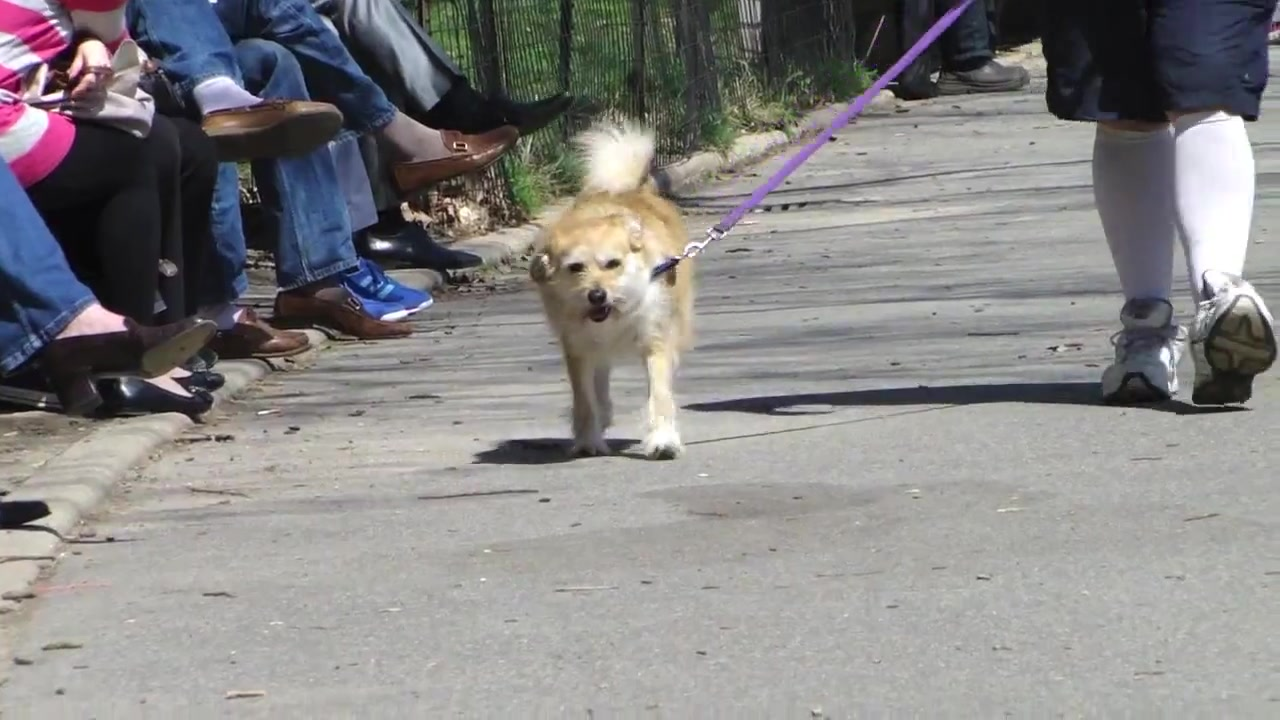dog: (532, 108, 695, 463)
